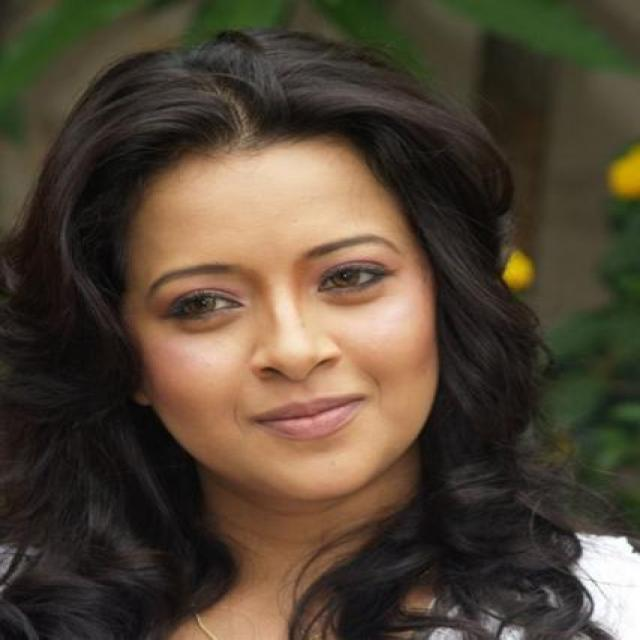0_rostro_limpio: (99, 106, 463, 511)
